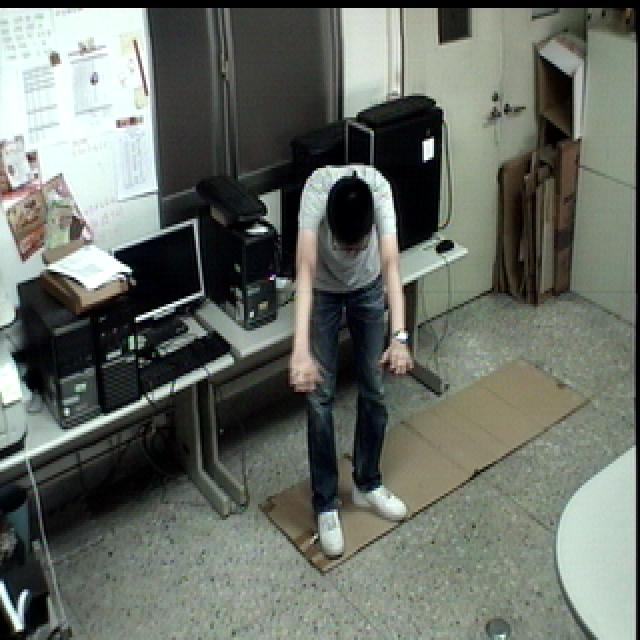bend: (284, 166, 422, 570)
